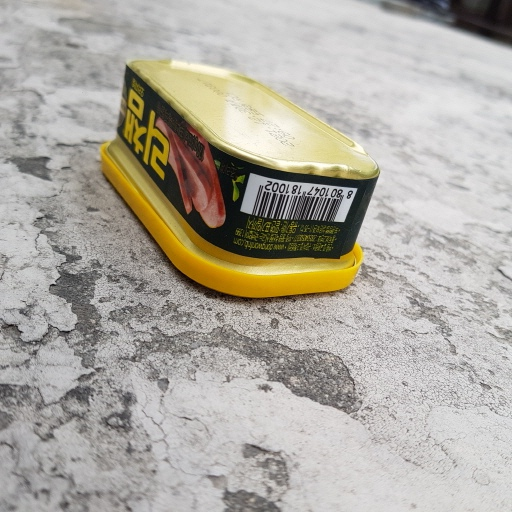Metal_2: (94, 51, 380, 297)
